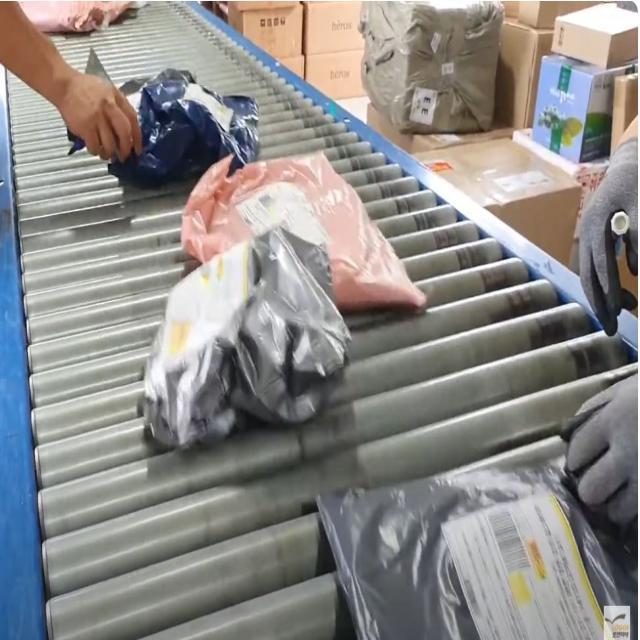bare_hand: (53, 60, 156, 168)
gloved_hand: (560, 135, 640, 340), (556, 368, 640, 534)
